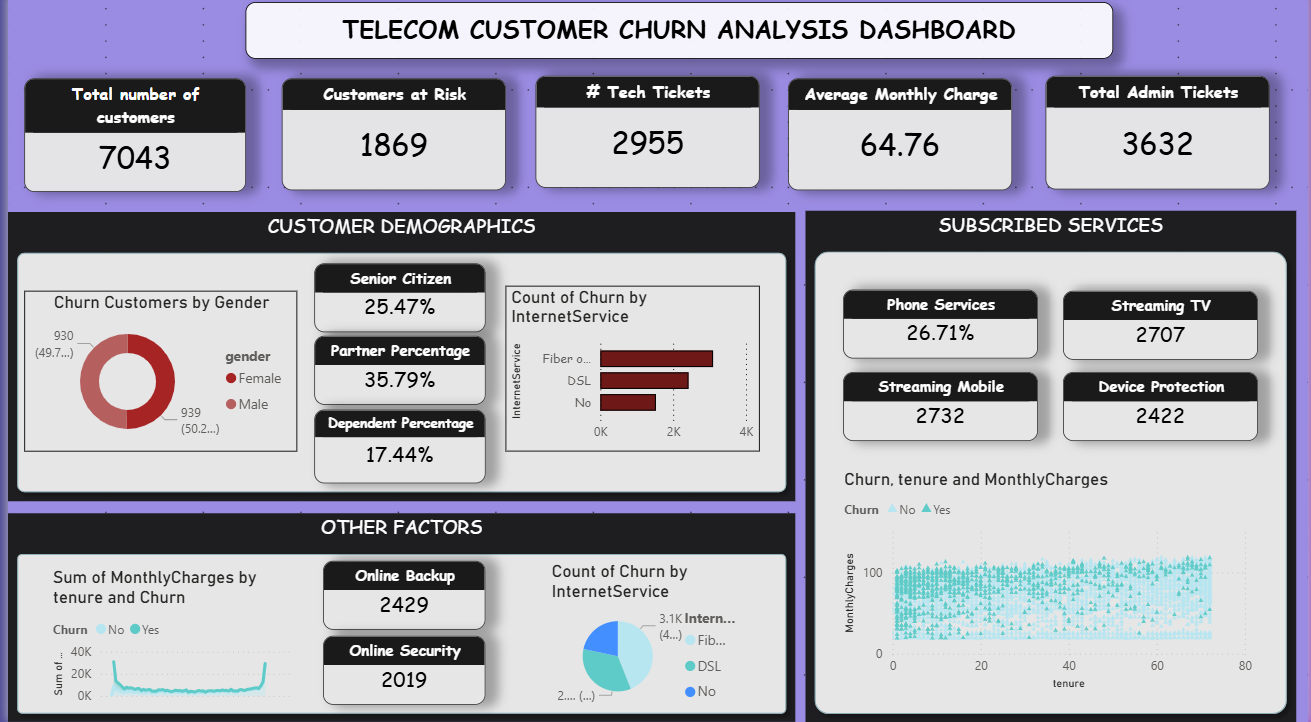

What the dashboard file says about the page in this screenshot:
{"tool":"powerbi","page":{"name":"Page 1","canvas":[1280,720],"ordinal":0},"visuals":[{"type":"card","title":"Total number of customers","fields":{"Values":["Count(01 Churn-Dataset.customerID)"]},"box":[16,84.4,218.2,112],"z":0},{"type":"card","title":"Customers at Risk","fields":{"Values":["Count(01 Churn-Dataset.customerID)"]},"box":[269.1,84.4,221.1,110.5],"z":1000},{"type":"card","title":"# Tech Tickets","fields":{"Values":["Sum(01 Churn-Dataset.numTechTickets)"]},"box":[519.3,82.9,221.1,110.5],"z":2000},{"type":"textbox","box":[233.7,9.7,854.3,55.7],"z":3000},{"type":"card","title":"Average Monthly Charge","fields":{"Values":["Avg(01 Churn-Dataset.MonthlyCharges)"]},"box":[768,84.4,221.1,110.5],"z":4000},{"type":"shape","title":"CUSTOMER DEMOGRAPHICS","box":[0,216.7,775.3,285.1],"z":5000},{"type":"donutChart","title":"Churn Customers by Gender","fields":{"Category":["01 Churn-Dataset.gender"],"Y":["CountNonNull(01 Churn-Dataset.customerID)"]},"box":[16,293.8,269.1,158.5],"z":6000},{"type":"card","title":"Senior Citizen","fields":{"Values":["01 Churn-Dataset.Senior citizen %"]},"box":[301.1,267.6,168.7,68.4],"z":7000},{"type":"card","title":"Partner Percentage","fields":{"Values":["01 Churn-Dataset.% of partner"]},"box":[301.1,338.9,168.7,68.4],"z":8000},{"type":"card","title":"Dependent Percentage","fields":{"Values":["01 Churn-Dataset.% of Dependents"]},"box":[301.1,411.6,168.7,72.7],"z":9000},{"type":"clusteredBarChart","fields":{"Y":["CountNonNull(01 Churn-Dataset.Churn)"],"Category":["01 Churn-Dataset.InternetService"]},"box":[490.2,289.5,250.2,162.9],"z":10000},{"type":"shape","title":"SUBSCRIBED SERVICES","box":[785.5,215.3,482.9,504.7],"z":11000},{"type":"card","title":"Phone Services","fields":{"Values":["01 Churn-Dataset.% 2 Phone Service"]},"box":[821.8,292.4,192,68.4],"z":12000},{"type":"card","title":"Streaming TV","fields":{"Values":["CountNonNull(01 Churn-Dataset.StreamingTV)"]},"box":[1038.5,293.8,192,68.4],"z":13000},{"type":"card","title":"Streaming Mobile","fields":{"Values":["CountNonNull(01 Churn-Dataset.StreamingMovies)"]},"box":[821.8,373.8,192,68.4],"z":14000},{"type":"card","title":"Device Protection","fields":{"Values":["CountNonNull(01 Churn-Dataset.DeviceProtection)"]},"box":[1038.5,373.8,192,68.4],"z":15000},{"type":"scatterChart","fields":{"X":["01 Churn-Dataset.tenure"],"Y":["01 Churn-Dataset.MonthlyCharges"],"Series":["01 Churn-Dataset.Churn"]},"box":[818.9,468.4,411.6,222.5],"z":16000},{"type":"card","title":"Total Admin Tickets","fields":{"Values":["Sum(01 Churn-Dataset.numAdminTickets)"]},"box":[1021.1,82.9,221.1,112],"z":17000},{"type":"shape","title":"OTHER FACTORS","box":[0,513.5,775.3,206.5],"z":18001},{"type":"stackedAreaChart","fields":{"Category":["01 Churn-Dataset.tenure"],"Y":["Sum(01 Churn-Dataset.MonthlyCharges)"],"Series":["01 Churn-Dataset.Churn"]},"box":[39.3,565.8,245.8,141.1],"z":18002},{"type":"pieChart","fields":{"Category":["01 Churn-Dataset.InternetService"],"Y":["CountNonNull(01 Churn-Dataset.Churn)"]},"box":[530.9,560,196.4,146.9],"z":18003},{"type":"card","title":"Online Backup","fields":{"Values":["CountNonNull(01 Churn-Dataset.OnlineBackup)"]},"box":[309.8,560,160,68.4],"z":18004},{"type":"card","title":"Online Security","fields":{"Values":["CountNonNull(01 Churn-Dataset.OnlineSecurity)"]},"box":[309.8,634.2,160,68.4],"z":18005}]}

Visuals, with their boxes in screenshot pixels (x1, y1, x2, y2), scaled from the page's 1280x720 canvas onto the 1311x722 screenshot:
"Total number of customers" card: <box>16,85,240,197</box>
"Customers at Risk" card: <box>276,85,502,195</box>
"# Tech Tickets" card: <box>532,83,758,194</box>
textbox: <box>239,10,1114,66</box>
"Average Monthly Charge" card: <box>787,85,1013,195</box>
"CUSTOMER DEMOGRAPHICS" shape: <box>0,217,794,503</box>
"Churn Customers by Gender" donutChart: <box>16,295,292,454</box>
"Senior Citizen" card: <box>308,268,481,337</box>
"Partner Percentage" card: <box>308,340,481,408</box>
"Dependent Percentage" card: <box>308,413,481,486</box>
clusteredBarChart - CountNonNull(01 Churn-Dataset.Churn) x 01 Churn-Dataset.InternetService: <box>502,290,758,454</box>
"SUBSCRIBED SERVICES" shape: <box>805,216,1299,721</box>
"Phone Services" card: <box>842,293,1038,362</box>
"Streaming TV" card: <box>1064,295,1260,363</box>
"Streaming Mobile" card: <box>842,375,1038,443</box>
"Device Protection" card: <box>1064,375,1260,443</box>
scatterChart - 01 Churn-Dataset.tenure x 01 Churn-Dataset.MonthlyCharges: <box>839,470,1260,693</box>
"Total Admin Tickets" card: <box>1046,83,1272,195</box>
"OTHER FACTORS" shape: <box>0,515,794,721</box>
stackedAreaChart - 01 Churn-Dataset.tenure x Sum(01 Churn-Dataset.MonthlyCharges): <box>40,567,292,709</box>
pieChart - 01 Churn-Dataset.InternetService x CountNonNull(01 Churn-Dataset.Churn): <box>544,562,745,709</box>
"Online Backup" card: <box>317,562,481,630</box>
"Online Security" card: <box>317,636,481,705</box>
